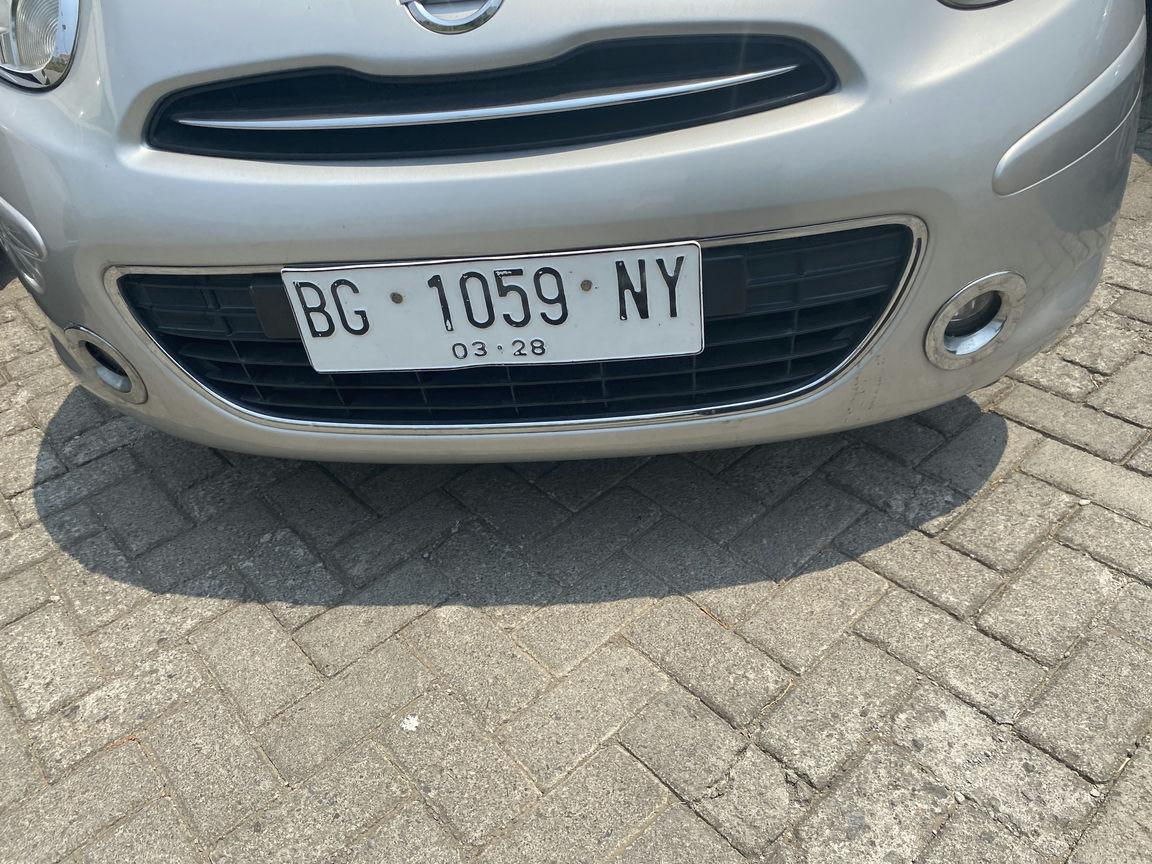plat: (281, 243, 704, 374)
